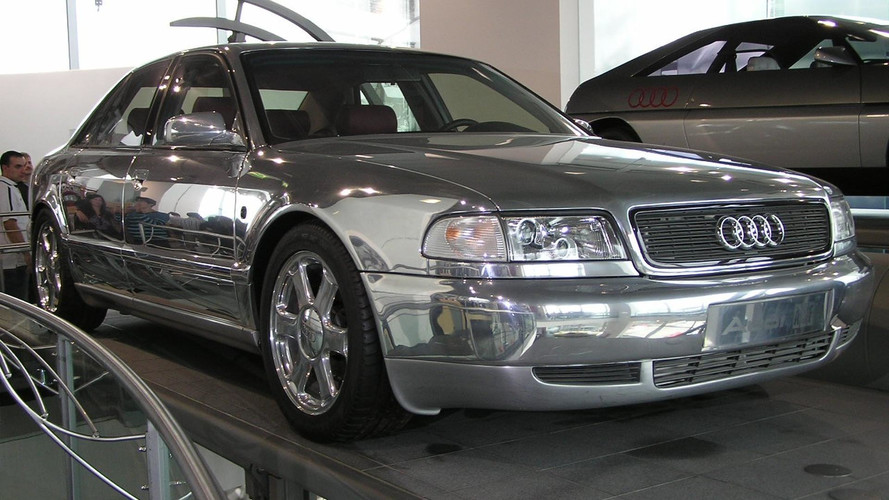audi: (704, 210, 788, 250)
